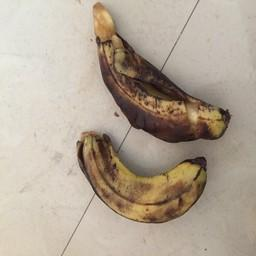Bad_banana: (91, 2, 231, 144), (69, 132, 207, 225)
